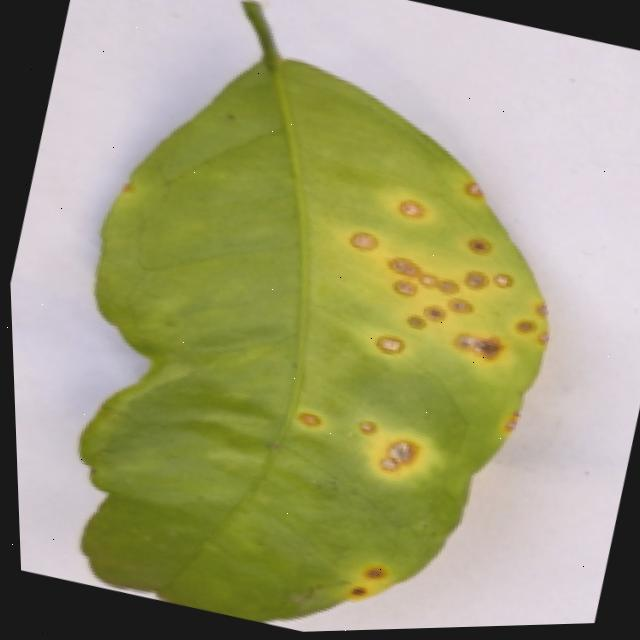canker: (82, 2, 544, 620), (298, 139, 604, 445), (270, 392, 437, 491), (334, 548, 407, 619)
